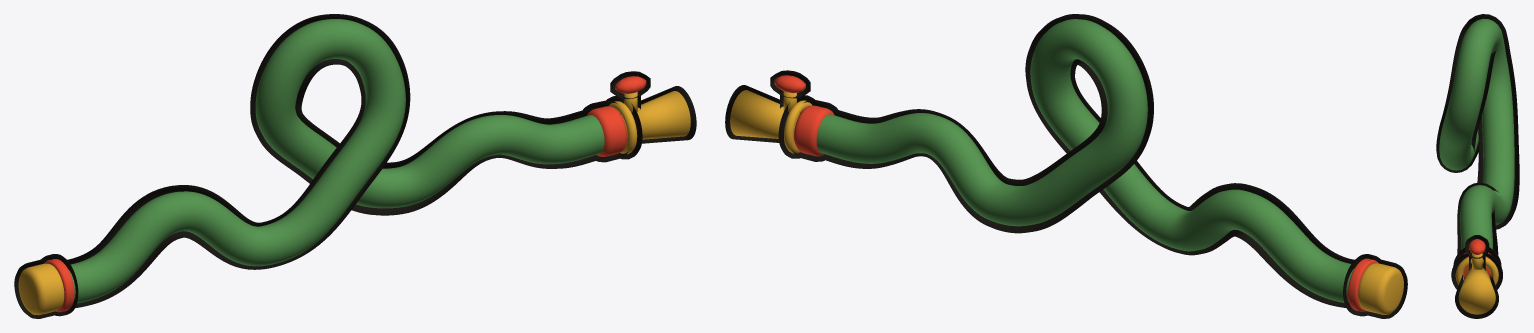
The model's file is hose.glb.
The picture shows the model from 3 angles, left to right: view 1: azimuth 30°, elevation 25°; view 2: azimuth 150°, elevation 25°; view 3: azimuth 270°, elevation 25°; orthographic projection. The views are drawn at different scales.
Parts seen in each view (by area): view 1: Hose, Hose_outline; view 2: Hose, Hose_outline; view 3: Hose, Hose_outline.
Boxes of the visible parts, x1,y1,x2,y2 form: Hose: [18, 19, 690, 315]; Hose_outline: [14, 14, 696, 318]; Hose: [730, 19, 1403, 314]; Hose_outline: [725, 14, 1407, 318]; Hose: [1439, 18, 1514, 314]; Hose_outline: [1436, 14, 1519, 318].
Size of the model in its own units: 3.41 by 1.13 by 0.4709.
